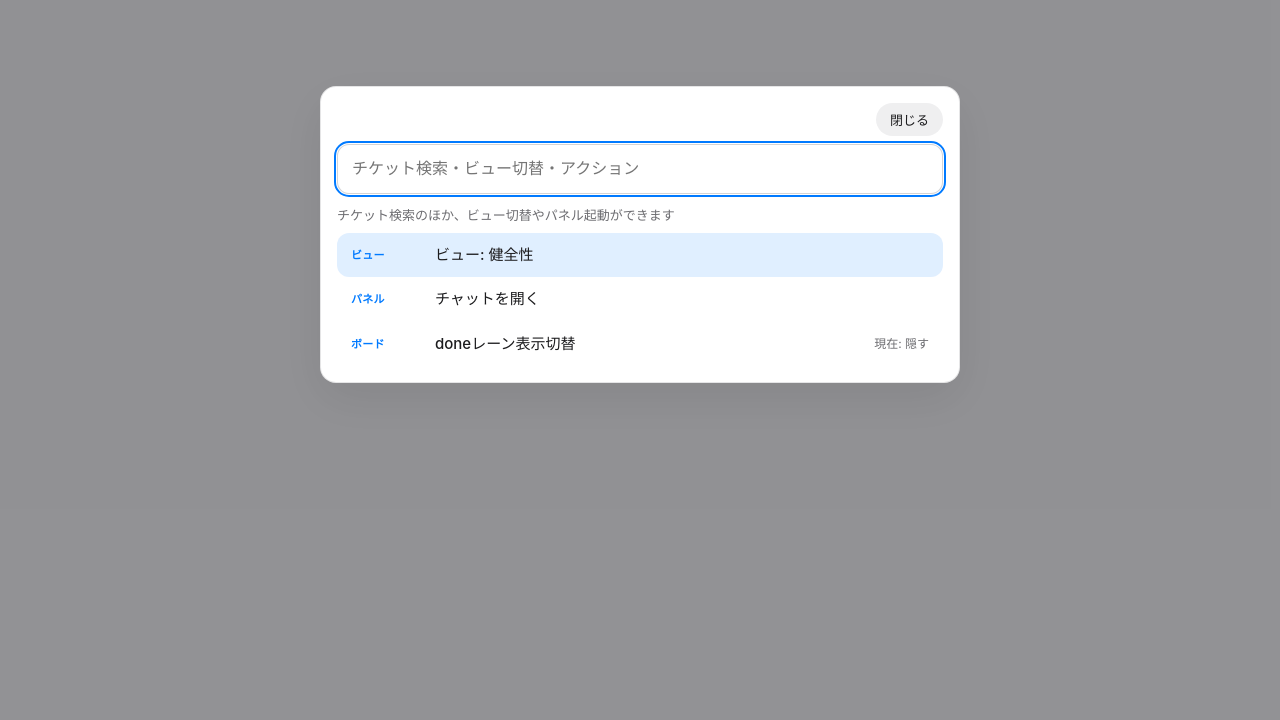
Test case: SearchPalette › filters palette actions locally by query
In the search field named "検索クエリ": (640, 169) top-left (337, 144), bottom-right (943, 194), type "健全性"
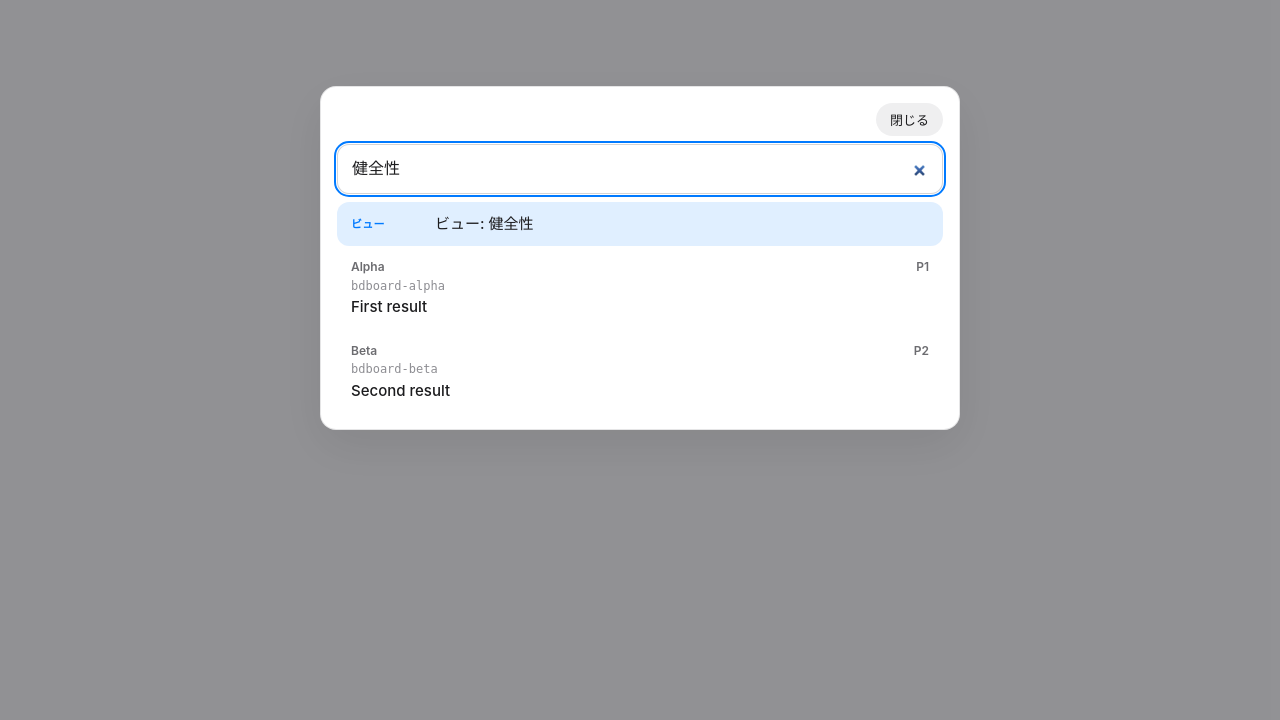
Expected: the text "ビュー: 健全性" is shown, top-left (435, 214), bottom-right (534, 233)
Expected: the option "チャットを開く" is gone
